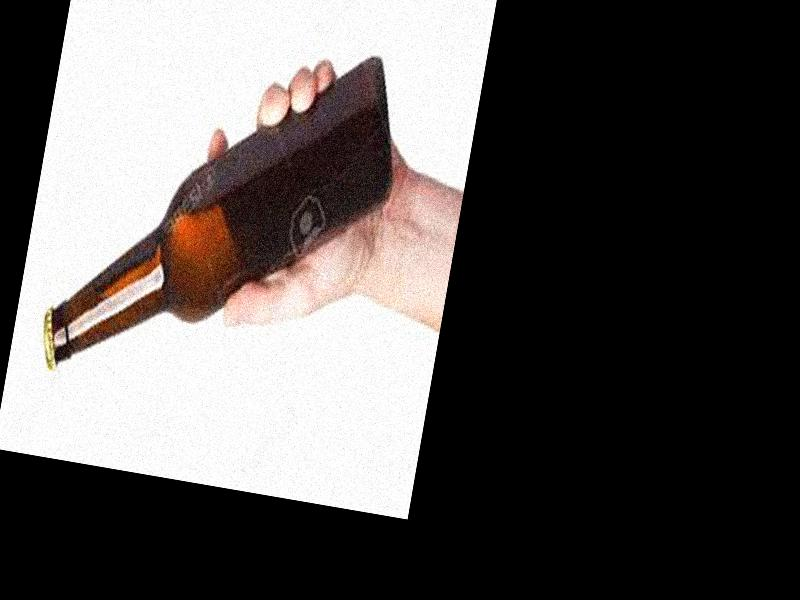Beer: (36, 12, 410, 422)
